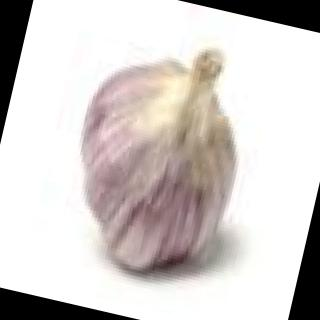Bawang Putih: (43, 19, 277, 303)
